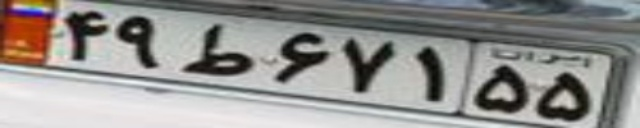1: (417, 45, 444, 101)
4: (68, 9, 108, 62)
5: (536, 68, 590, 122), (473, 63, 526, 113)
6: (273, 30, 332, 84)
7: (340, 36, 394, 94)
9: (115, 14, 154, 71)
taa: (184, 22, 254, 78)
